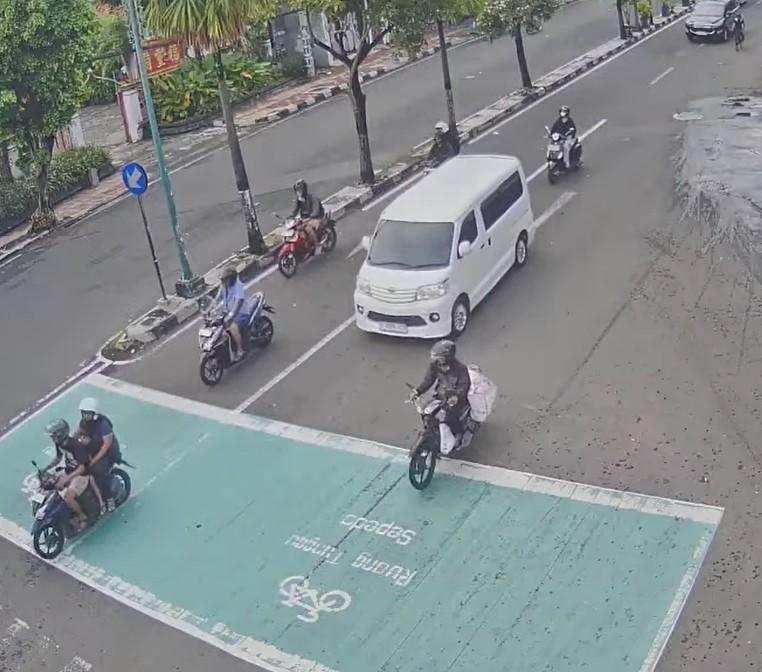Helmet: (45, 418, 69, 445), (430, 340, 455, 364), (79, 397, 99, 415), (220, 266, 237, 284), (293, 178, 307, 192), (435, 121, 448, 132), (559, 105, 569, 116)
Number Plate: (379, 322, 406, 333), (31, 492, 44, 503), (199, 328, 212, 337)
